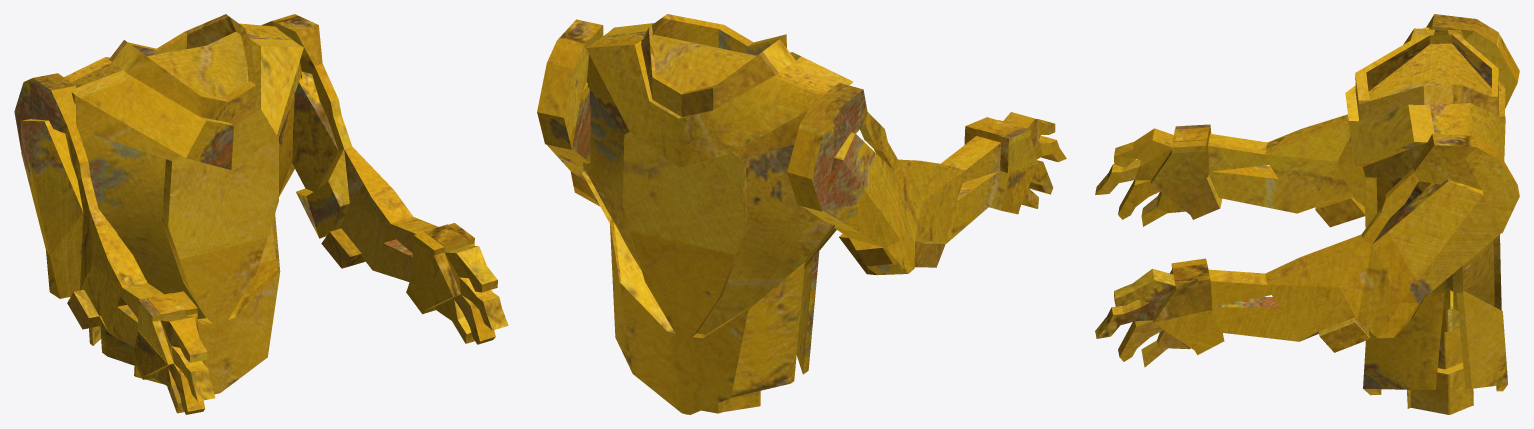
Rendered from wolfChestNew.fbx.
3 renders of one model, left to right at view 1: azimuth 30°, elevation 25°; view 2: azimuth 150°, elevation 25°; view 3: azimuth 270°, elevation 25°, orthographic. The views are drawn at different scales.
Visible parts, largest first — view 1: WolfTorso; view 2: WolfTorso; view 3: WolfTorso.
Boxes of the visible parts, x1,y1,x2,y2 form: WolfTorso: (14,14,508,414); WolfTorso: (537,14,1066,414); WolfTorso: (1095,14,1519,414).
Size of the model in its own units: 267 by 269 by 303.
